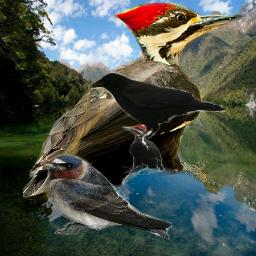Crow: (85, 69, 226, 139)
Swallow: (41, 153, 173, 240)
Woodpecker: (23, 3, 248, 200), (121, 122, 164, 174)
